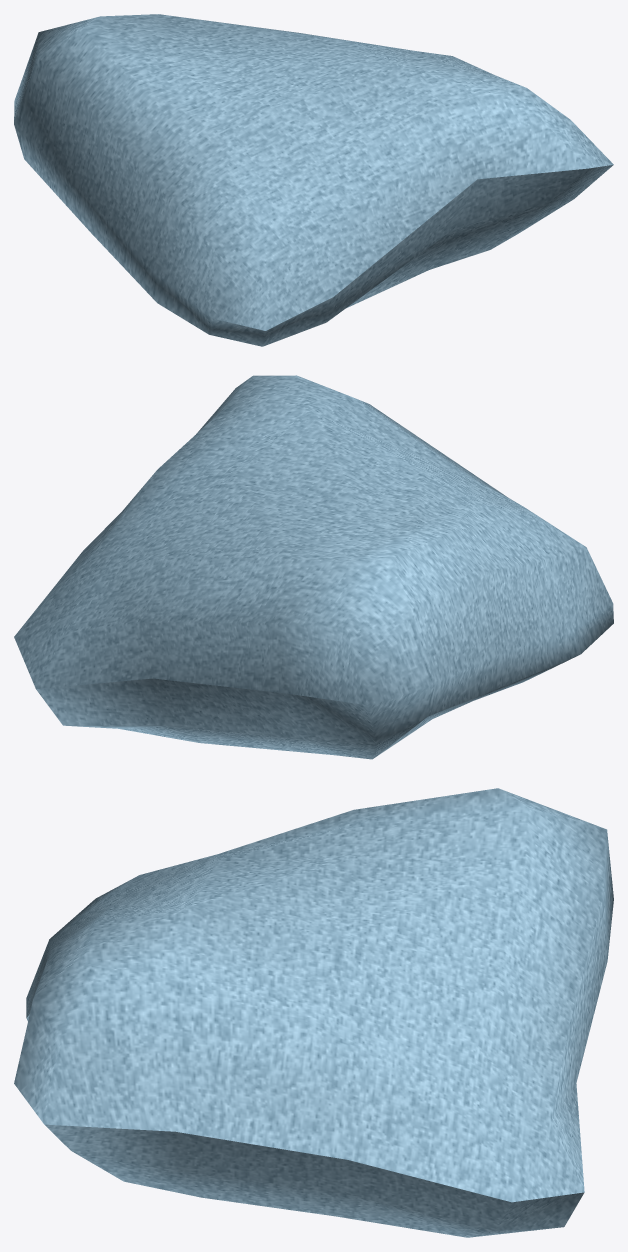
File: frl_apartment_cushion_01.glb
3 views of the same model, one above another, from view 1: azimuth 30°, elevation 25°; view 2: azimuth 150°, elevation 25°; view 3: azimuth 270°, elevation 25° (orthographic). The views are drawn at different scales.
Parts seen in each view (by area): view 1: frl_apartment_cushion_01; view 2: frl_apartment_cushion_01; view 3: frl_apartment_cushion_01.
Part boxes in pixels (x1=…): frl_apartment_cushion_01: x1=14, y1=14, x2=613, y2=346; frl_apartment_cushion_01: x1=14, y1=375, x2=613, y2=759; frl_apartment_cushion_01: x1=14, y1=788, x2=613, y2=1237.
Bounding box in the file's own units: 0.4303 × 0.2263 × 0.4323.
1 material, 1 textured.
